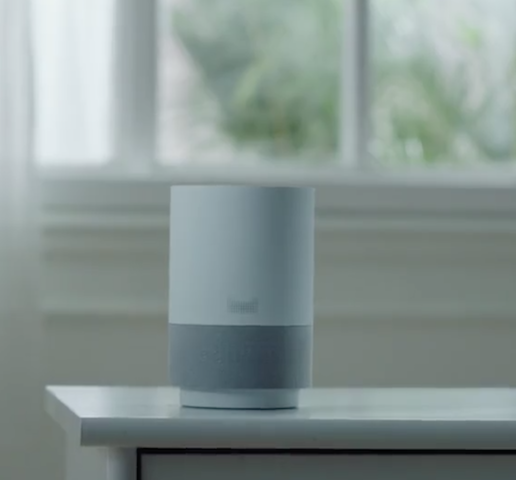audio: (156, 169, 323, 415)
